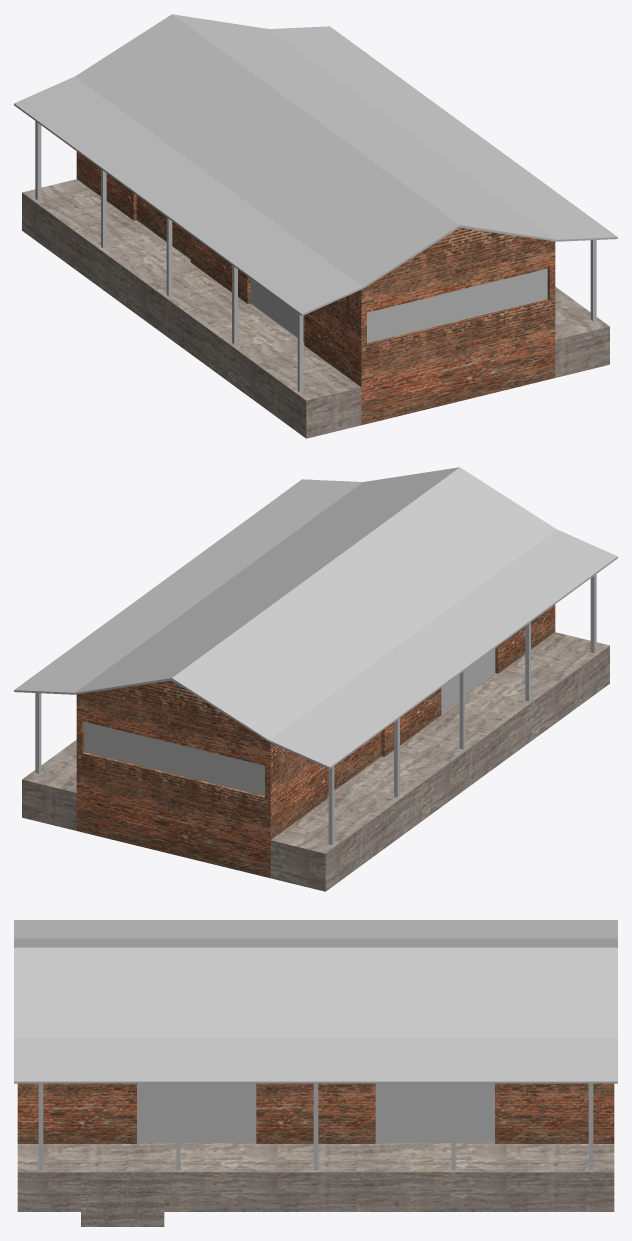
The model's file is huse3.FBX.
The picture shows the model from 3 angles, top to bottom: view 1: azimuth 30°, elevation 25°; view 2: azimuth 150°, elevation 25°; view 3: azimuth 270°, elevation 25°; orthographic projection. The views are drawn at different scales.
Parts seen in each view (by area): view 1: house; view 2: house; view 3: house.
Boxes of the visible parts, x1=… form: house: x1=14, y1=14, x2=617, y2=438; house: x1=14, y1=467, x2=617, y2=891; house: x1=14, y1=920, x2=617, y2=1226.
Bounding box in the file's own units: 2.19 × 1.1 × 3.22.
